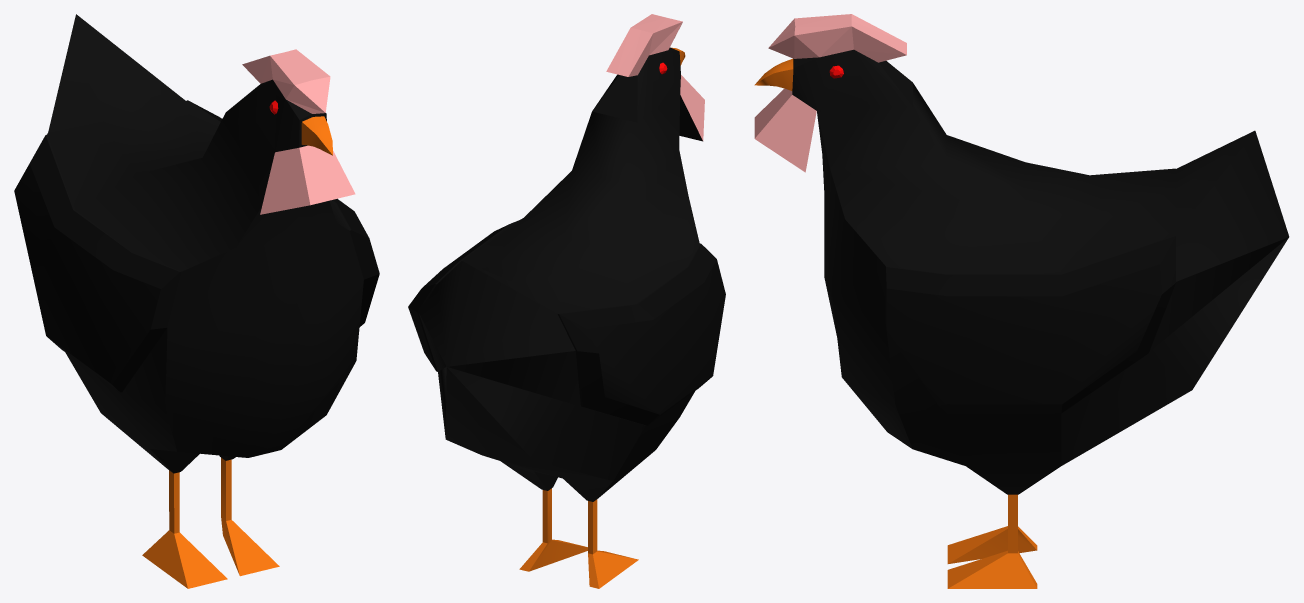
Rendered from Dark_Poule.FBX.
The picture shows the model from 3 angles, left to right: view 1: azimuth 30°, elevation 25°; view 2: azimuth 150°, elevation 25°; view 3: azimuth 270°, elevation 25°; orthographic projection. The views are drawn at different scales.
Parts seen in each view (by area): view 1: Box001; view 2: Box001; view 3: Box001.
Boxes of the visible parts, left/top/right/bottom form: Box001: left=14, top=14, right=379, bottom=588; Box001: left=408, top=14, right=725, bottom=588; Box001: left=754, top=14, right=1289, bottom=588.
Bounding box in the file's own units: 11.06 × 22.62 × 20.06.
